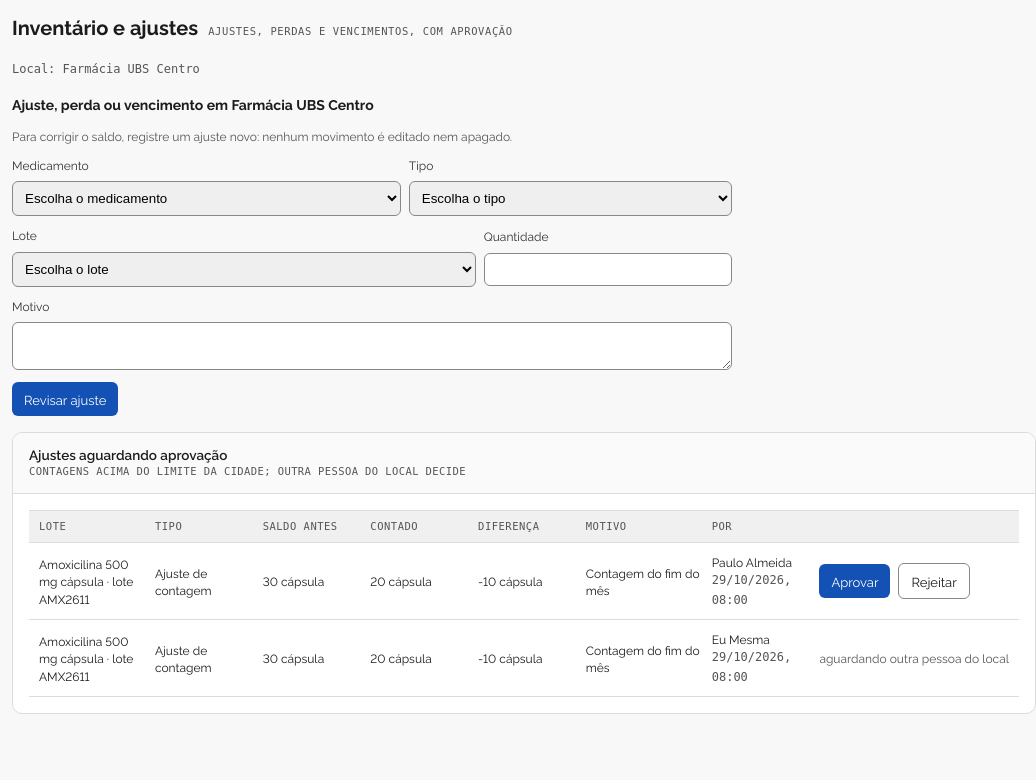
Test case: PharmacyAdjustments › contagem aplicada na hora: a frase vem do status da resposta
Select "Amoxicilina 500 mg cápsula — saldo 30 cápsula" in the dropdown labelled "Medicamento" at (206, 199), box [12,182,401,216]
Select "AMX2611 · vence 20/11/2026 · saldo 30 cápsula" in the dropdown labelled "Lote" at (244, 269), box [12,252,476,287]
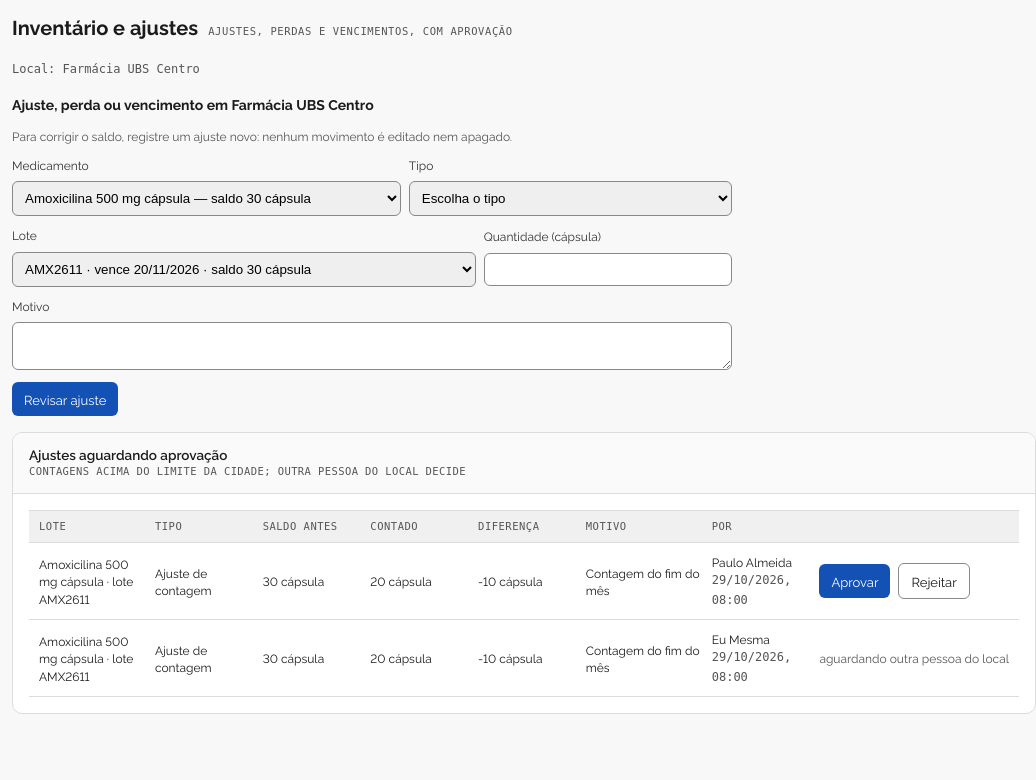
Select "Contagem de inventário" in the dropdown labelled "Tipo" at (570, 199), box [409,182,732,216]
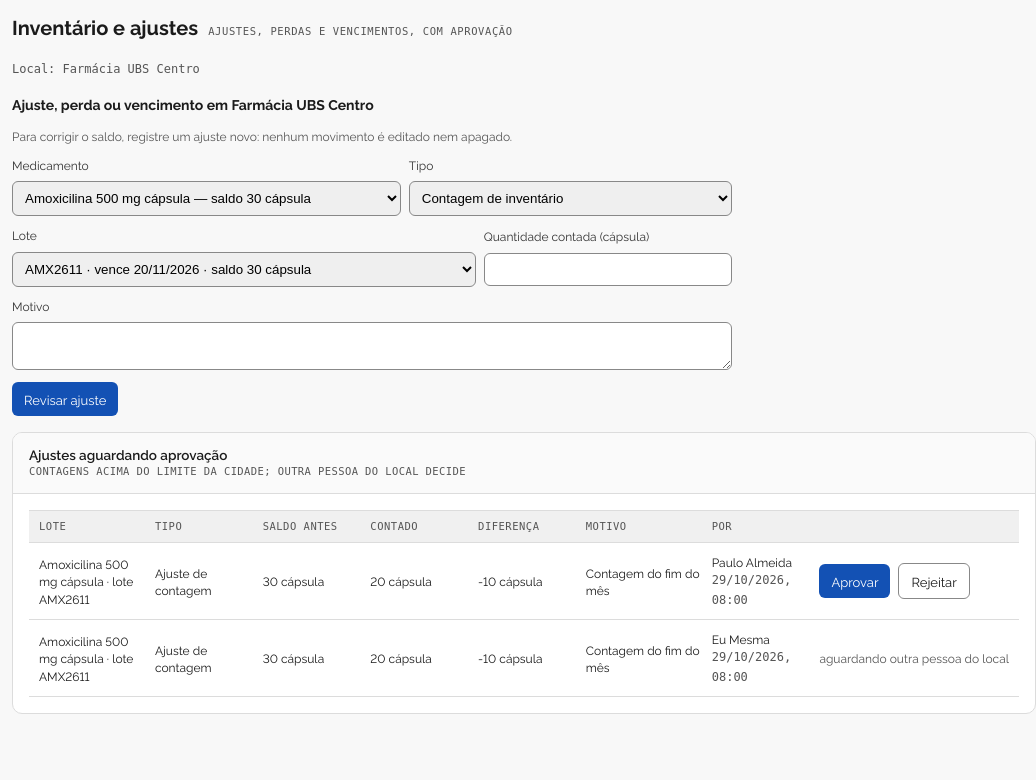
Type "29" into the field labelled "Quantidade contada".
click(608, 269); type("29")  # box [484,253,732,286]
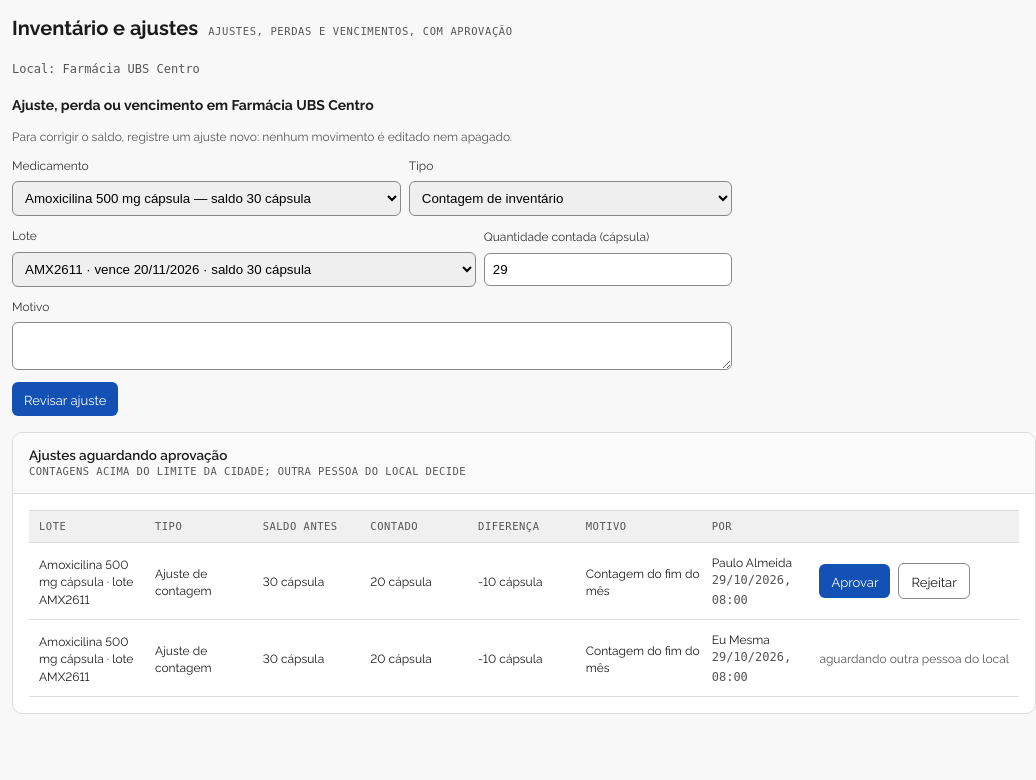
Type "contagem do fim do mês" into the text box labelled "Motivo".
click(372, 346); type("contagem do fim do mês")  # box [12,322,732,370]
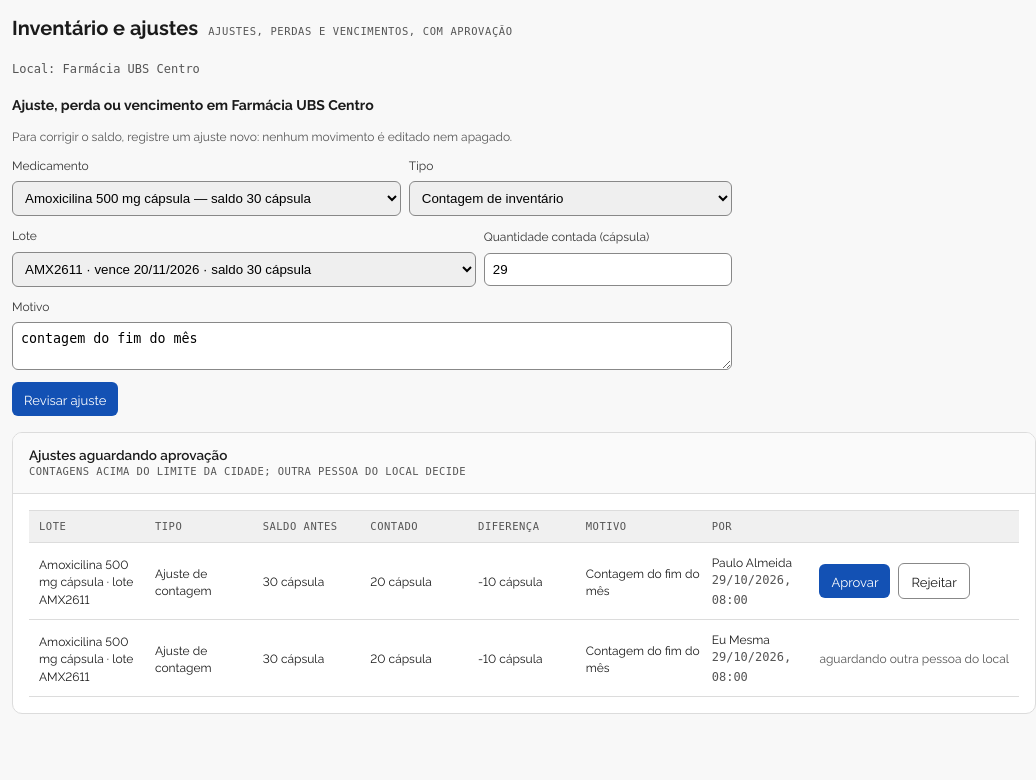
Click the button "Revisar ajuste".
click(65, 399)  # box [12,382,118,416]
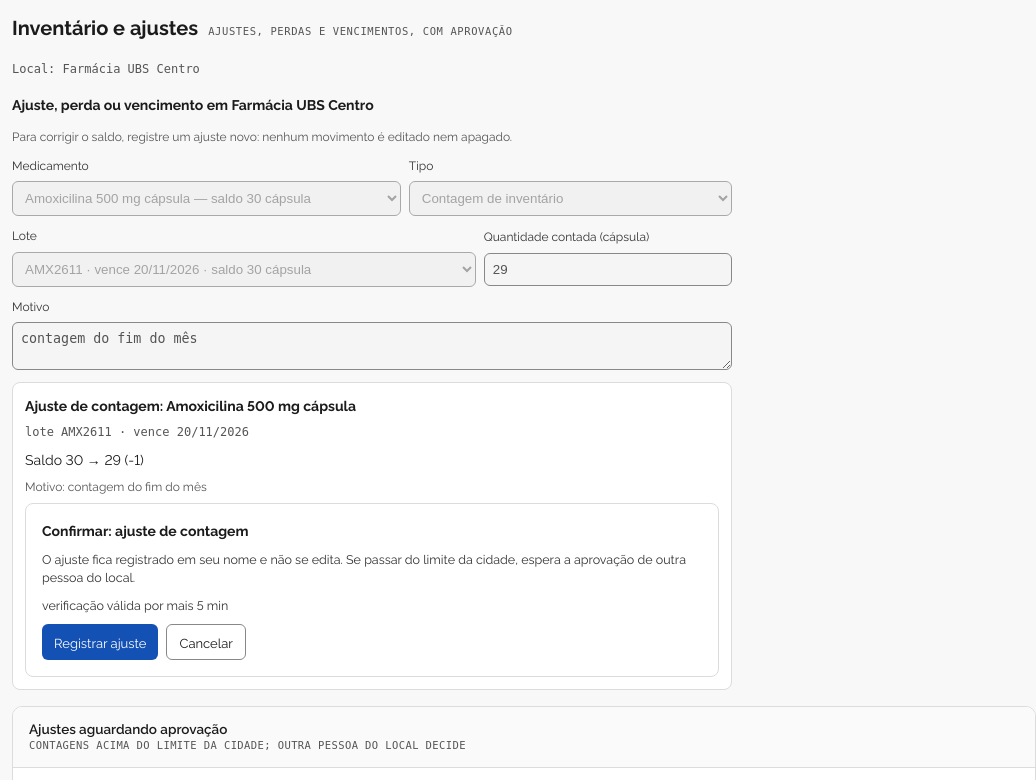
Click the button "Registrar ajuste".
click(100, 642)  # box [42,624,158,660]
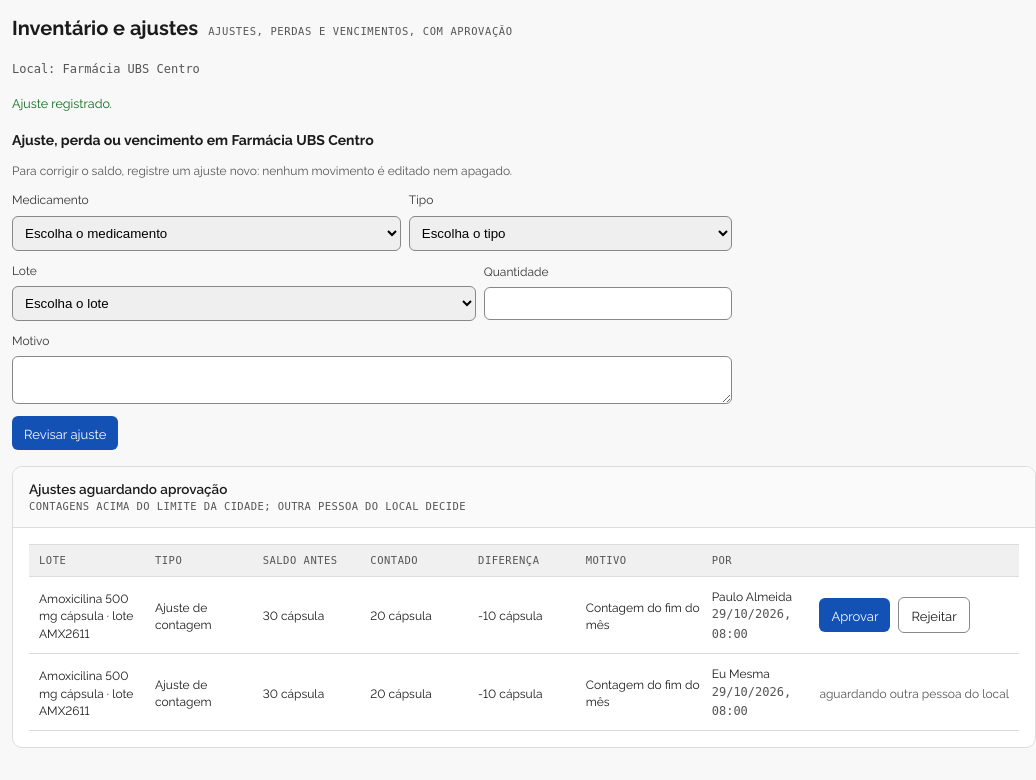
expect the message reads "Ajuste registrado.": met, box [12,94,112,111]
